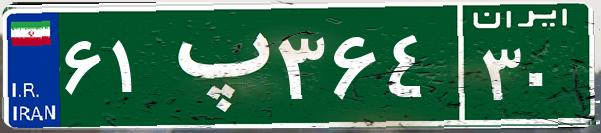0: (525, 38, 570, 115)
1: (110, 28, 158, 105)
3: (273, 28, 330, 110), (475, 38, 525, 113)
4: (385, 28, 445, 110)
6: (330, 28, 385, 110), (57, 26, 110, 107)
پ: (158, 15, 273, 115)
